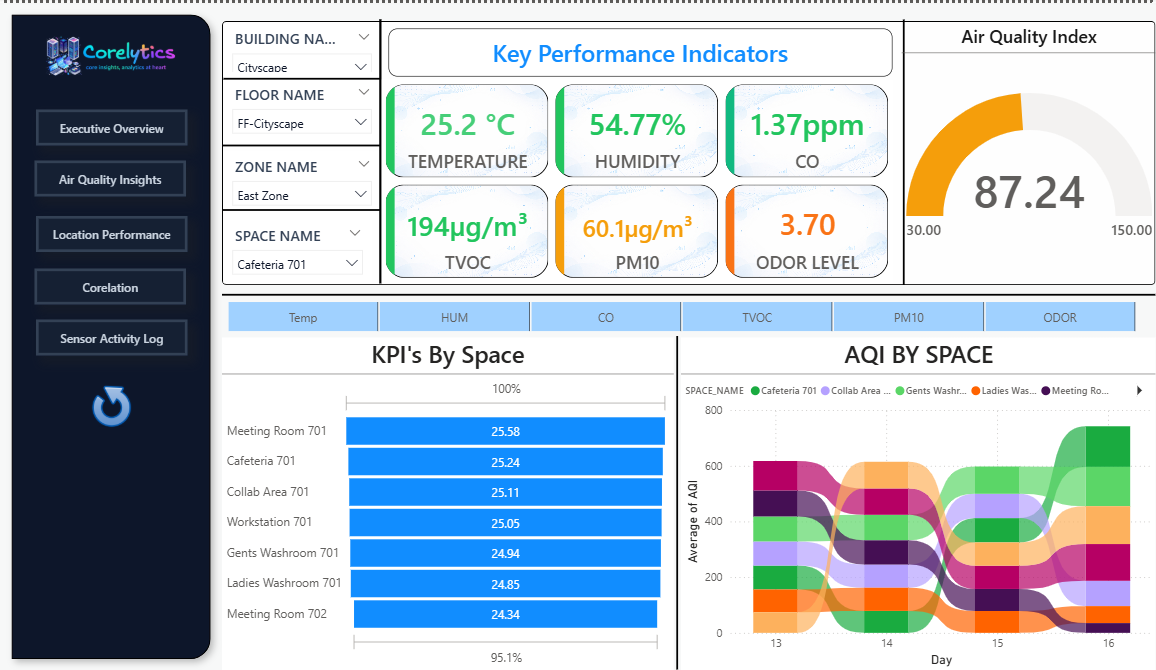

This screenshot's page, from the dashboard's own definition file:
{"tool":"powerbi","page":{"name":"overview","canvas":[1300,750],"ordinal":0},"visuals":[{"type":"shape","box":[0,0,249.6,750.6],"z":0},{"type":"image","box":[0,0,249.6,119.8],"z":1000},{"type":"actionButton","box":[40.5,119.8,170.4,40.5],"z":2000},{"type":"actionButton","box":[38.8,177.1,170.4,40.5],"z":3000},{"type":"actionButton","box":[40.5,239.5,170.4,40.5],"z":4000},{"type":"actionButton","box":[38.8,298.5,170.4,40.5],"z":5000},{"type":"actionButton","box":[40.5,355.9,170.4,40.5],"z":7000},{"type":"shape","box":[249.6,20.2,1050.8,296.9],"z":8000},{"type":"slicer","title":"Building Name","fields":{"Values":["DIM_BUILDING.BUILDING_NAME"]},"box":[251.7,23.3,176.7,63.3],"z":9000},{"type":"slicer","title":"Floors","fields":{"Values":["DIM_FLOOR.FLOOR_NAME"]},"box":[251.7,86.7,176.7,73.3],"z":10000},{"type":"slicer","title":"Zone","fields":{"Values":["DIM_ZONE.ZONE_NAME"]},"box":[251.7,166.7,176.7,66.7],"z":11000},{"type":"slicer","title":"Space Name","fields":{"Values":["DIM_SPACE.SPACE_NAME"]},"box":[251.7,245,166.7,70],"z":12000},{"type":"shape","box":[251.3,77.6,177.1,15.2],"z":13000},{"type":"shape","box":[249.6,153.5,178.8,13.5],"z":14000},{"type":"shape","box":[249.6,224.3,178.8,16.9],"z":15000},{"type":"shape","box":[418.3,18.6,18.6,296.9],"z":16000},{"type":"cardVisual","fields":{"Data":["Avg(FACT_SENSOR_READINGS.TEMPERATURE)","Avg(FACT_SENSOR_READINGS.HUMIDITY)","Avg(FACT_SENSOR_READINGS.CO)","Avg(FACT_SENSOR_READINGS.TVOC)","Avg(FACT_SENSOR_READINGS.PM10)","Avg(FACT_SENSOR_READINGS.ODOR_LEVEL)"]},"box":[428.4,86,575.2,229.4],"z":17000},{"type":"textbox","box":[436.9,28.7,566.7,54],"z":18000},{"type":"shape","box":[998.5,18.6,35.4,298.5],"z":19000},{"type":"gauge","title":"Air Quality Index","fields":{"Y":["Avg(FACT_SENSOR_READINGS.AQI)"],"MinValue":["Min(FACT_SENSOR_READINGS.AQI)1"],"MaxValue":["Max(FACT_SENSOR_READINGS.AQI)2"]},"box":[1013.7,23.6,286.7,291.8],"z":20000},{"type":"shape","box":[249.6,317.1,1050.8,21.9],"z":21000},{"type":"slicer","fields":{"Values":["KPI_Metrices.KPI_Metrices"]},"box":[231.1,328.9,1069.4,47.2],"z":22000},{"type":"shape","box":[756.7,375,8.3,375],"z":23000},{"type":"funnel","title":"KPI''s By Space ","fields":{"Y":["FACT_SENSOR_READINGS.Average Temp"],"Category":["DIM_SPACE.SPACE_NAME"]},"box":[249.6,376.1,507.7,374.4],"z":24000},{"type":"ribbonChart","title":"AQI  BY SPACE","fields":{"Category":["FACT_SENSOR_READINGS.READING_TIMESTAMP.Variation.Date Hierarchy.Day"],"Series":["DIM_SPACE.SPACE_NAME"],"Y":["Avg(FACT_SENSOR_READINGS.AQI)"]},"box":[765.8,376.1,534.7,374.4],"z":25000},{"type":"shape","box":[413.8,19,29.3,296.6],"z":26000}]}

Visuals, with their boxes in screenshot pixels (x1, y1, x2, y2), scaled from the page's 1300x750 canvas onto the 1156x670 screenshot:
shape: rect(0, 0, 222, 669)
image: rect(0, 0, 222, 107)
actionButton: rect(36, 107, 188, 143)
actionButton: rect(35, 158, 186, 194)
actionButton: rect(36, 214, 188, 250)
actionButton: rect(35, 267, 186, 303)
actionButton: rect(36, 318, 188, 354)
shape: rect(222, 18, 1155, 283)
"Building Name" slicer: rect(224, 21, 381, 77)
"Floors" slicer: rect(224, 77, 381, 143)
"Zone" slicer: rect(224, 149, 381, 209)
"Space Name" slicer: rect(224, 219, 372, 281)
shape: rect(223, 69, 381, 83)
shape: rect(222, 137, 381, 149)
shape: rect(222, 200, 381, 215)
shape: rect(372, 17, 389, 282)
cardVisual - Avg(FACT_SENSOR_READINGS.TEMPERATURE) x Avg(FACT_SENSOR_READINGS.HUMIDITY): rect(381, 77, 892, 282)
textbox: rect(389, 26, 892, 74)
shape: rect(888, 17, 919, 283)
"Air Quality Index" gauge: rect(901, 21, 1155, 282)
shape: rect(222, 283, 1155, 303)
slicer - KPI_Metrices.KPI_Metrices: rect(206, 294, 1155, 336)
shape: rect(673, 335, 680, 669)
"KPI''s By Space " funnel: rect(222, 336, 673, 669)
"AQI  BY SPACE" ribbonChart: rect(681, 336, 1155, 669)
shape: rect(368, 17, 394, 282)
